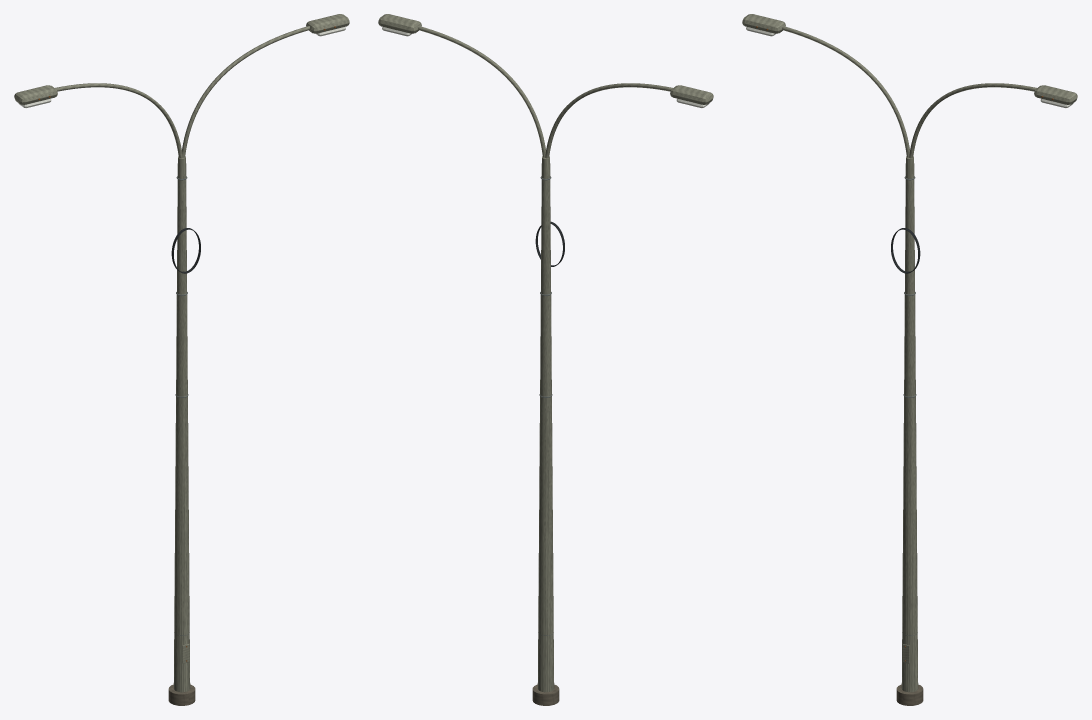
File: kodambakkam-twin-streetlight.glb
3 renders of one model, left to right at view 1: azimuth 30°, elevation 25°; view 2: azimuth 150°, elevation 25°; view 3: azimuth 330°, elevation 25°, orthographic.
Visible parts, largest first — view 1: kodambakkam-twin-streetlight / Aged pale painted lighting co; view 2: kodambakkam-twin-streetlight / Aged pale painted lighting co; view 3: kodambakkam-twin-streetlight / Aged pale painted lighting co.
Boxes of the visible parts, x1=… form: kodambakkam-twin-streetlight / Aged pale painted lighting co: x1=14, y1=14, x2=349, y2=692; kodambakkam-twin-streetlight / Aged pale painted lighting co: x1=378, y1=14, x2=713, y2=692; kodambakkam-twin-streetlight / Aged pale painted lighting co: x1=742, y1=14, x2=1077, y2=692.
Size of the model in its own units: 5.09 by 9.51 by 0.36.
6 materials, 3 textured.
